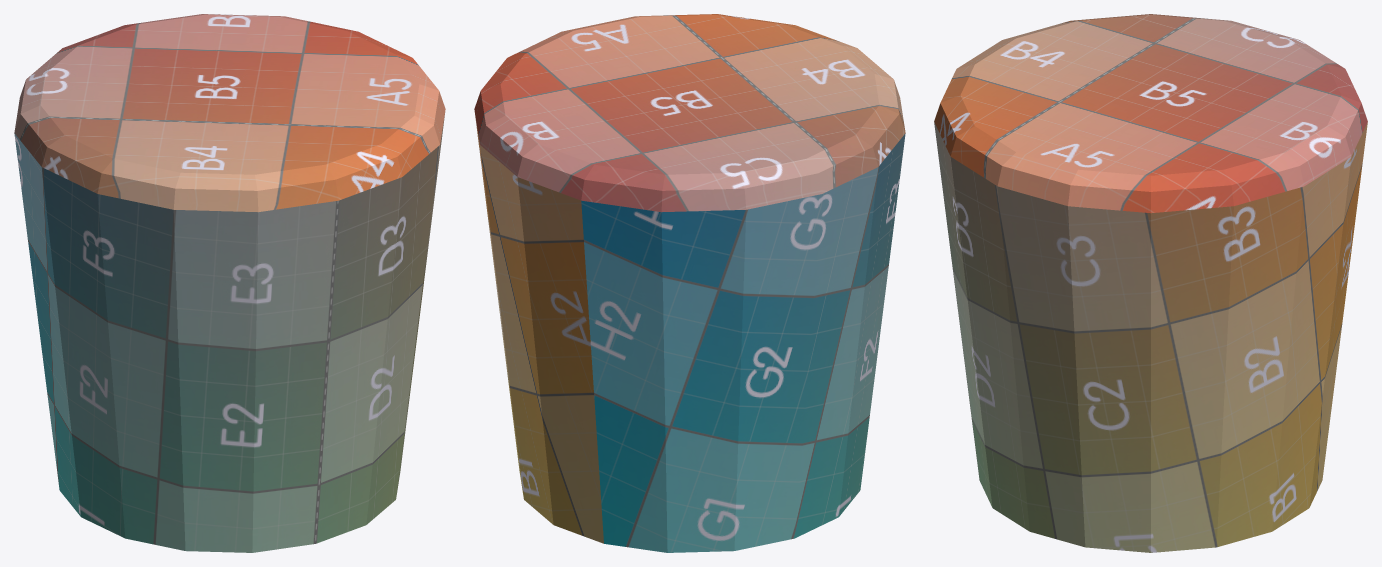
Rendered from MediumLid_LOW.fbx.
3 views of the same model, side by side, from view 1: azimuth 30°, elevation 25°; view 2: azimuth 150°, elevation 25°; view 3: azimuth 270°, elevation 25° (orthographic).
Visible parts, largest first — view 1: MediumLid_LOW.001; view 2: MediumLid_LOW.001; view 3: MediumLid_LOW.001.
Boxes of the visible parts, box(x1,y1,x2,y2) form: MediumLid_LOW.001: box(14, 14, 445, 552); MediumLid_LOW.001: box(474, 14, 905, 552); MediumLid_LOW.001: box(934, 14, 1367, 552).
Bounding box in the file's own units: 0.2263 × 0.2217 × 0.2263.
1 material, 1 textured.
